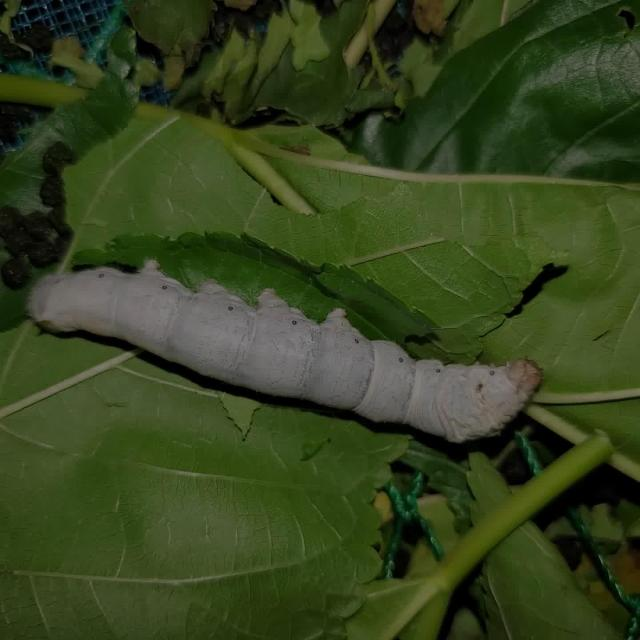Healthy: (24, 246, 546, 461)
